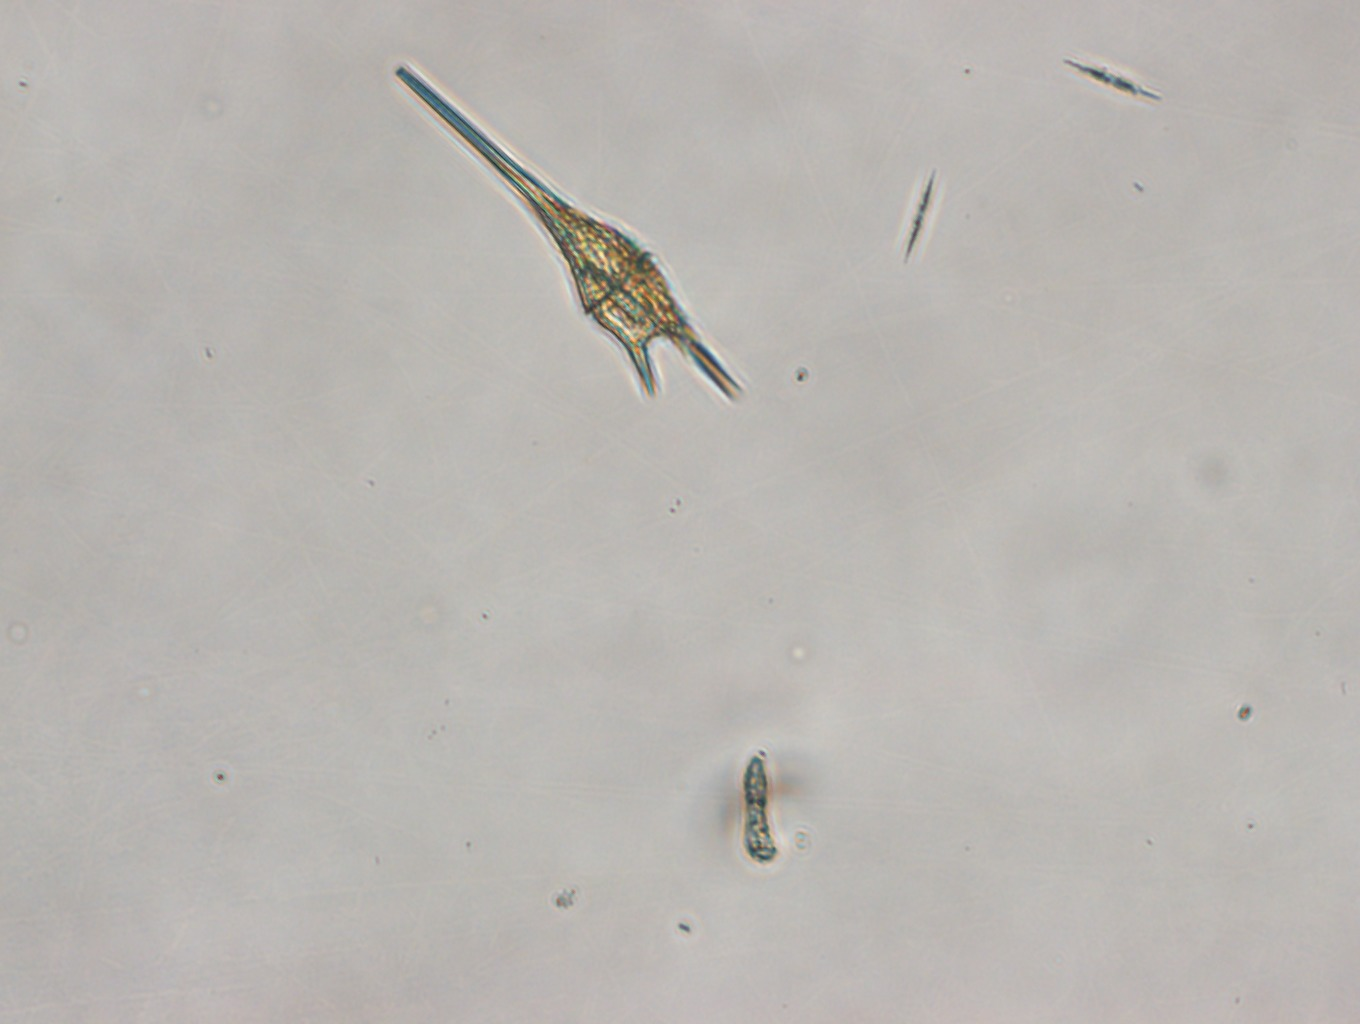ceratium furca: (396, 65, 747, 406)
navicula: (1063, 54, 1162, 105), (903, 167, 936, 262)
